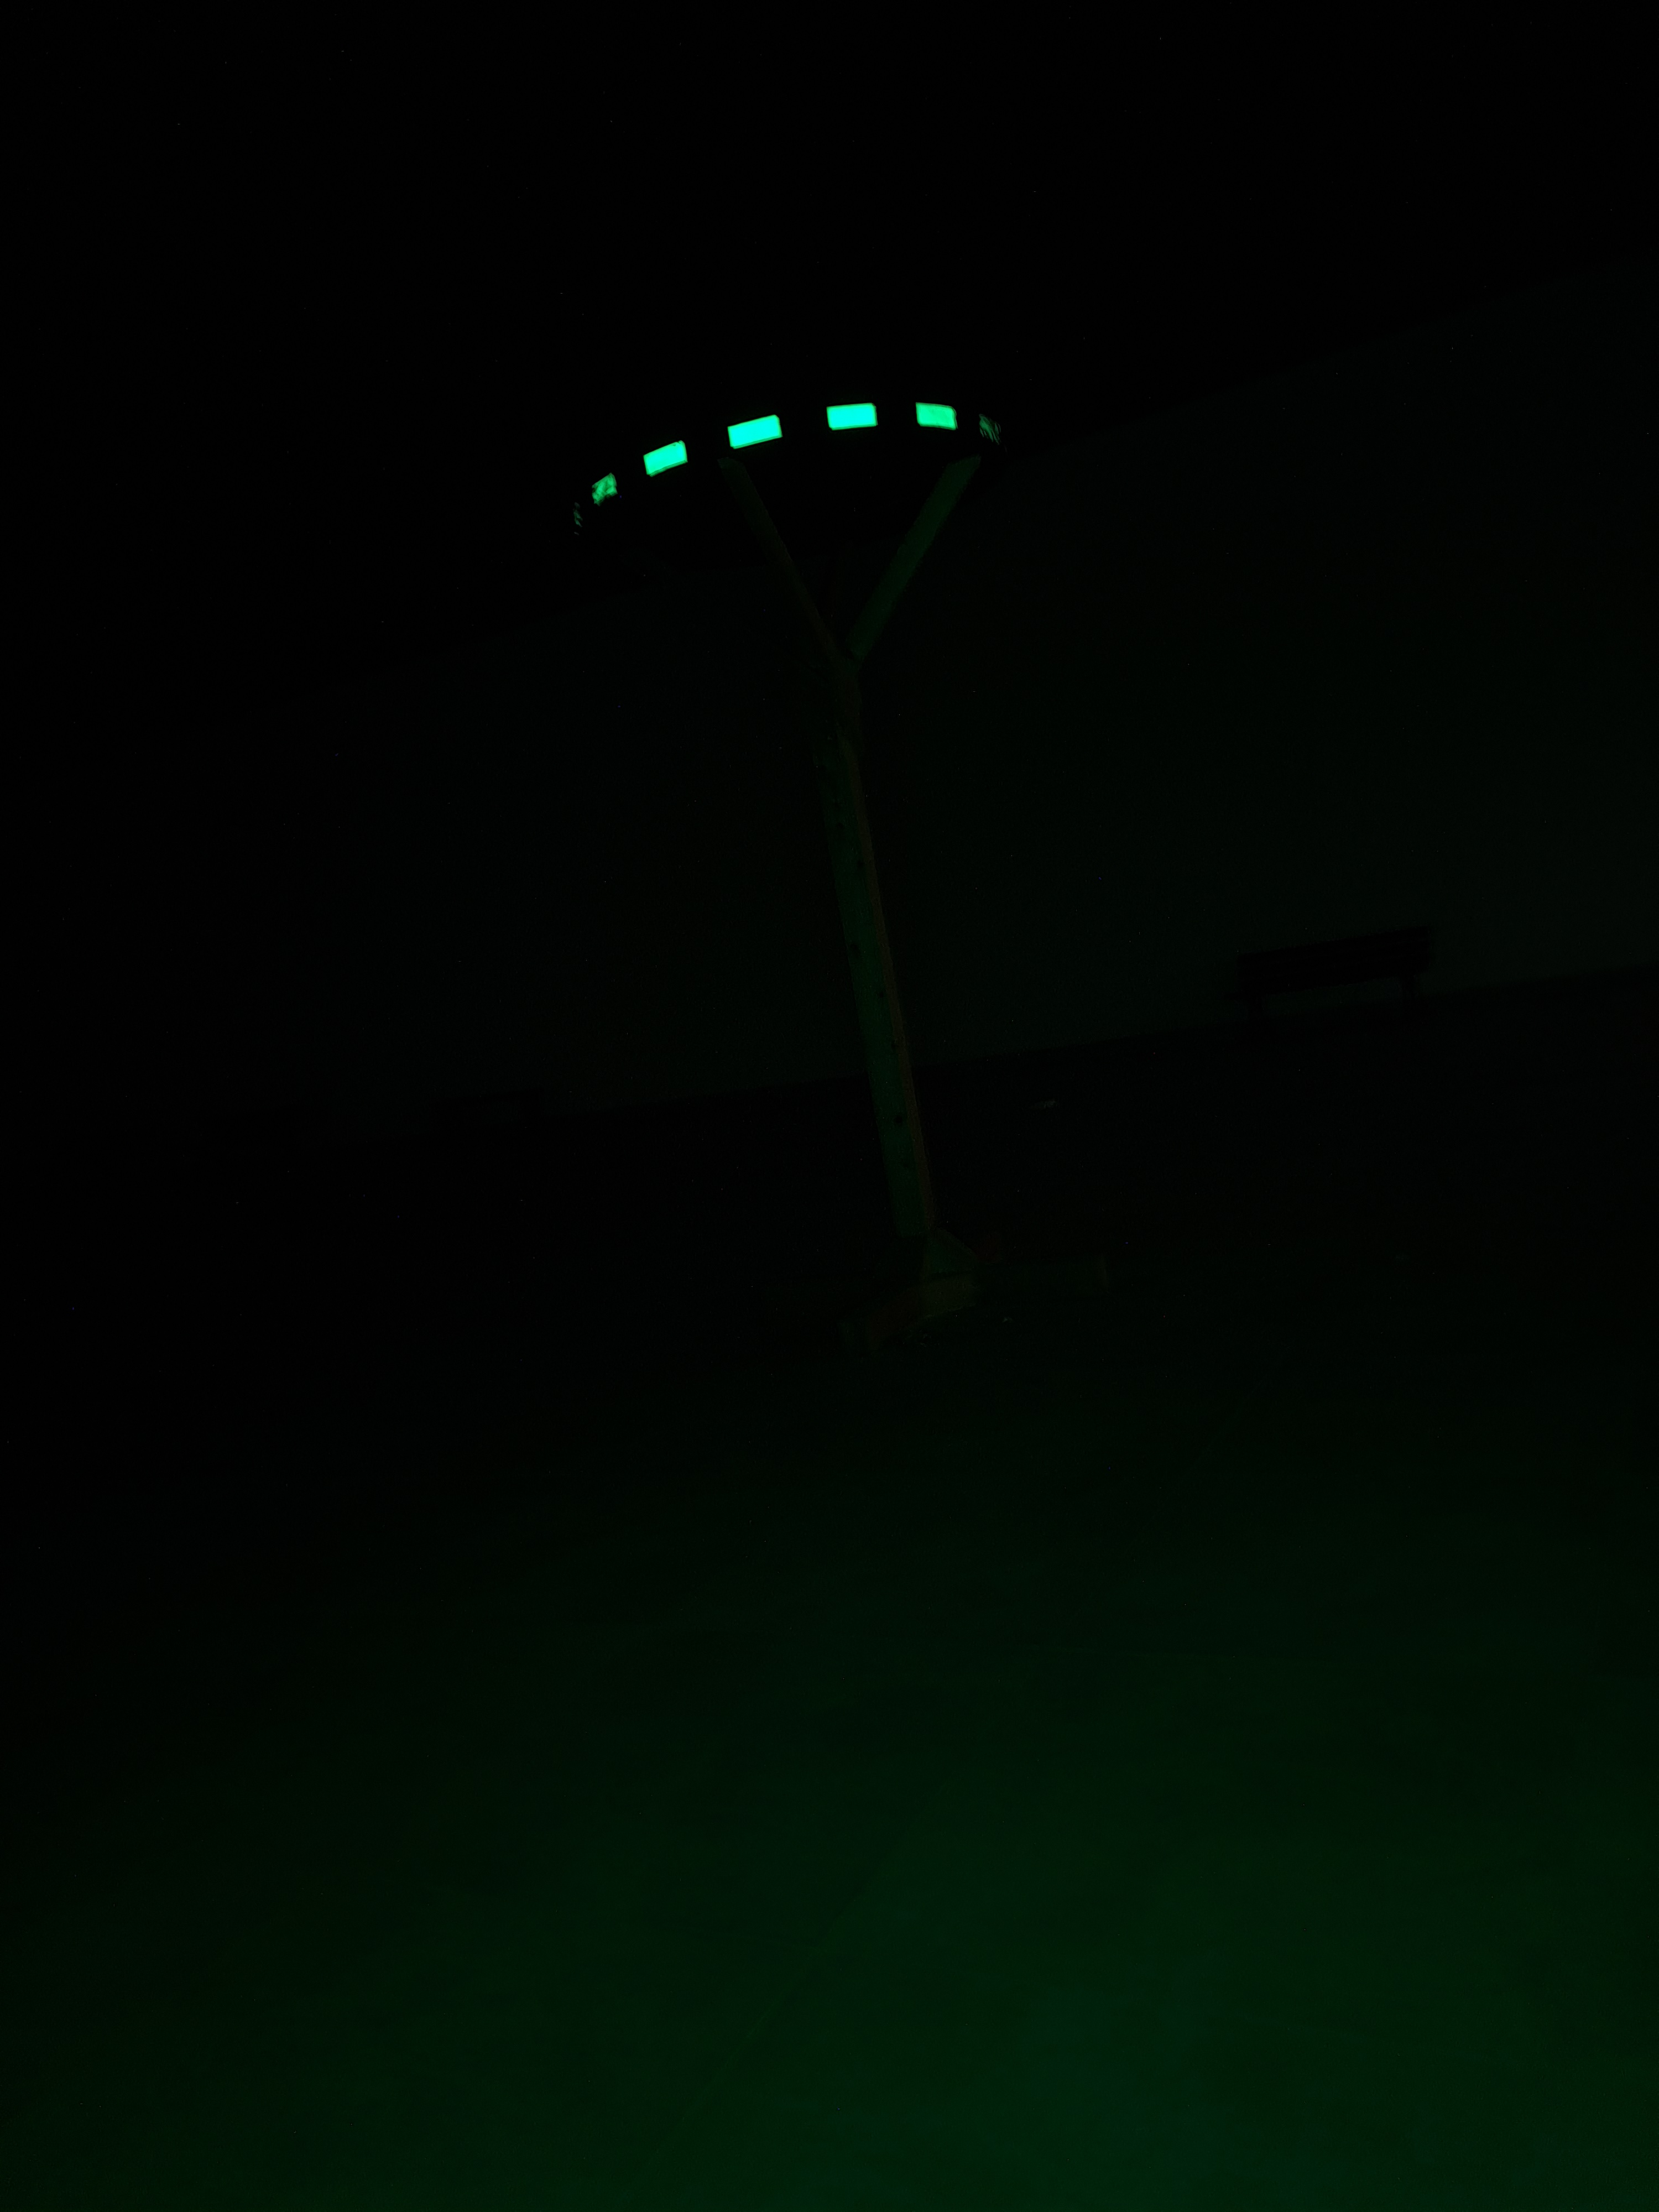hoop: (572, 395, 999, 529)
